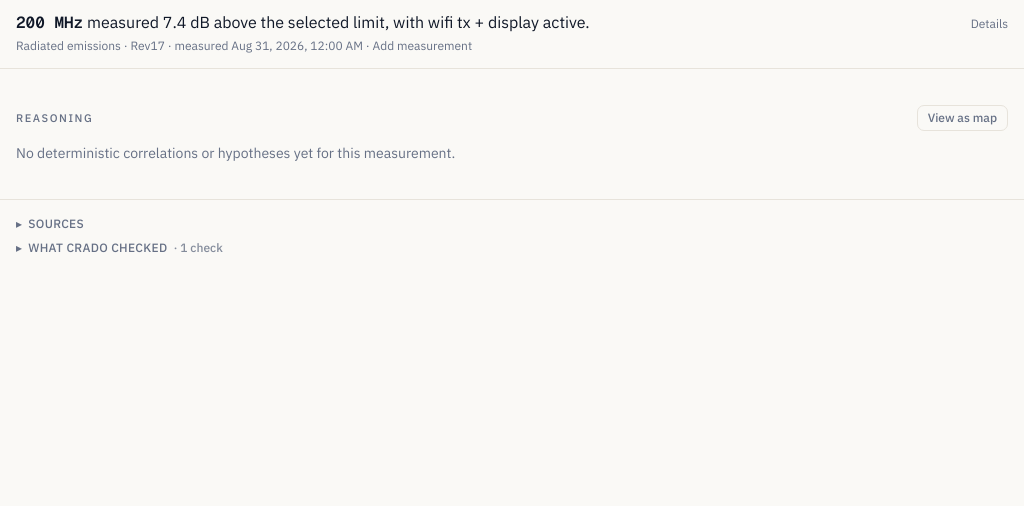
it: DecisionView — answer-first layout (UX-07) › does not mount agent metrics or the trace summary on first paint (acceptance criterion 5)
The width and height of the screenshot is (1024, 506).
Expected: the text "Tools used" is not shown
Step 1. Click the heading "▸ What Crado checked · 1 check" → (119, 248), box [16,240,223,256]
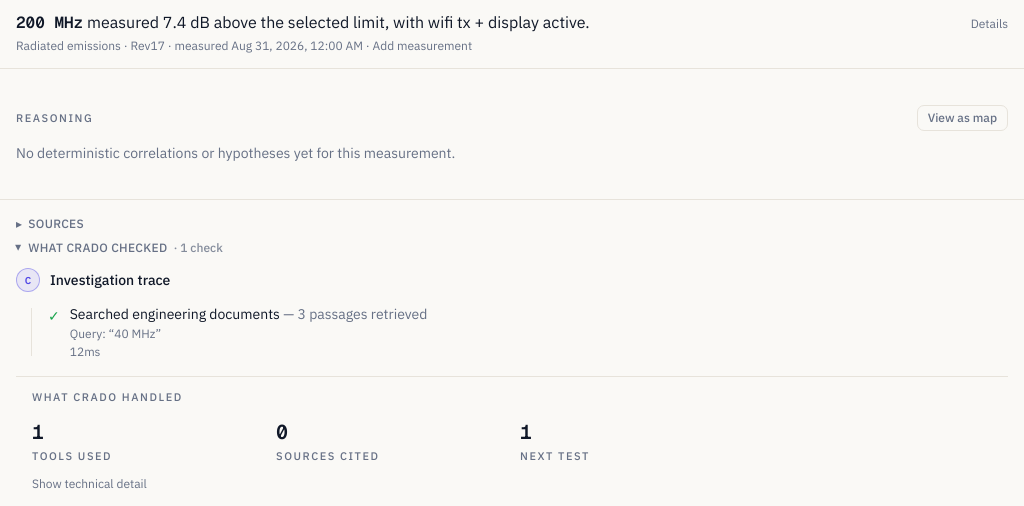
Expected: the text "Tools used" is shown, [32,448,112,462]
